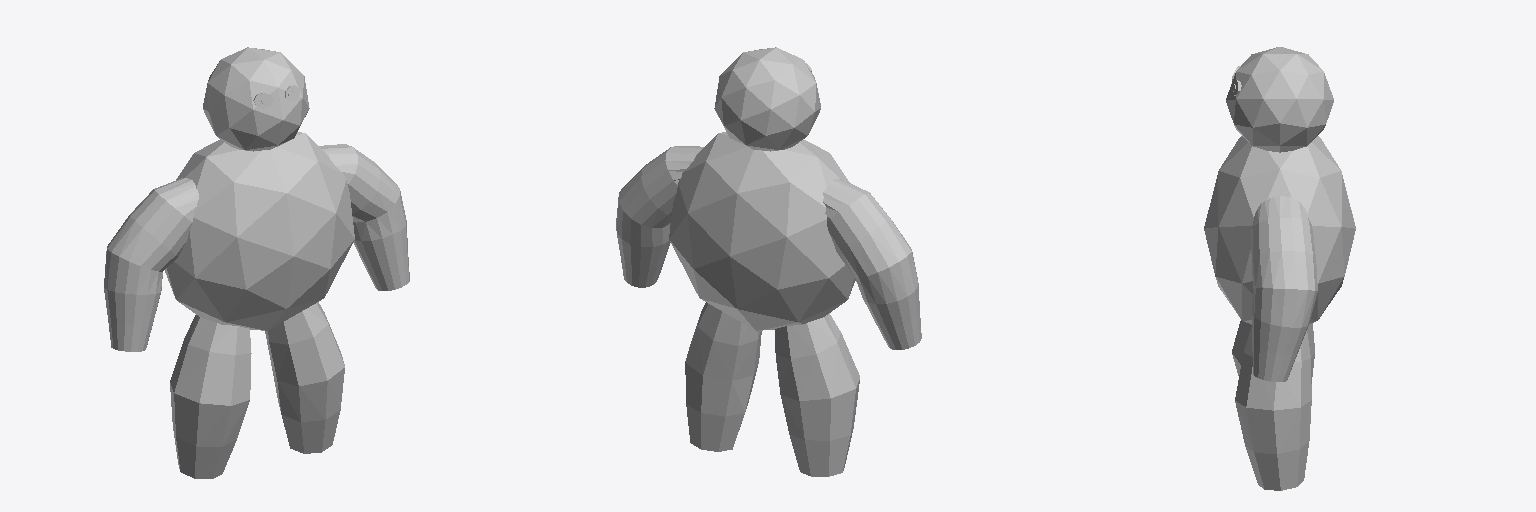
The model's file is bigboi_000020.obj.
3 views of the same model, side by side, from view 1: azimuth 30°, elevation 25°; view 2: azimuth 150°, elevation 25°; view 3: azimuth 270°, elevation 25° (orthographic).
Visible parts, largest first — view 1: Icosphere_bigboi; view 2: Icosphere_bigboi; view 3: Icosphere_bigboi.
Boxes of the visible parts, box(x1,y1,x2,y2) form: Icosphere_bigboi: box(104, 47, 409, 478); Icosphere_bigboi: box(616, 47, 921, 476); Icosphere_bigboi: box(1204, 47, 1355, 490).
Bounding box in the file's own units: 6.28 × 8.22 × 2.8.